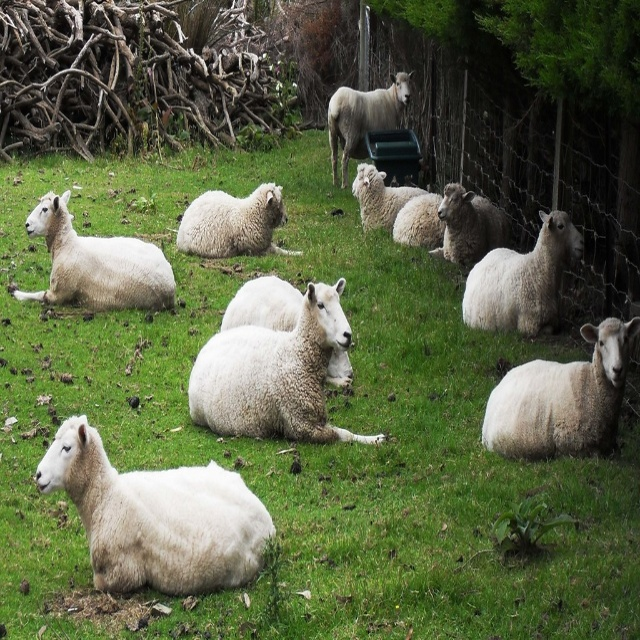Sheep: (13, 71, 640, 596)
